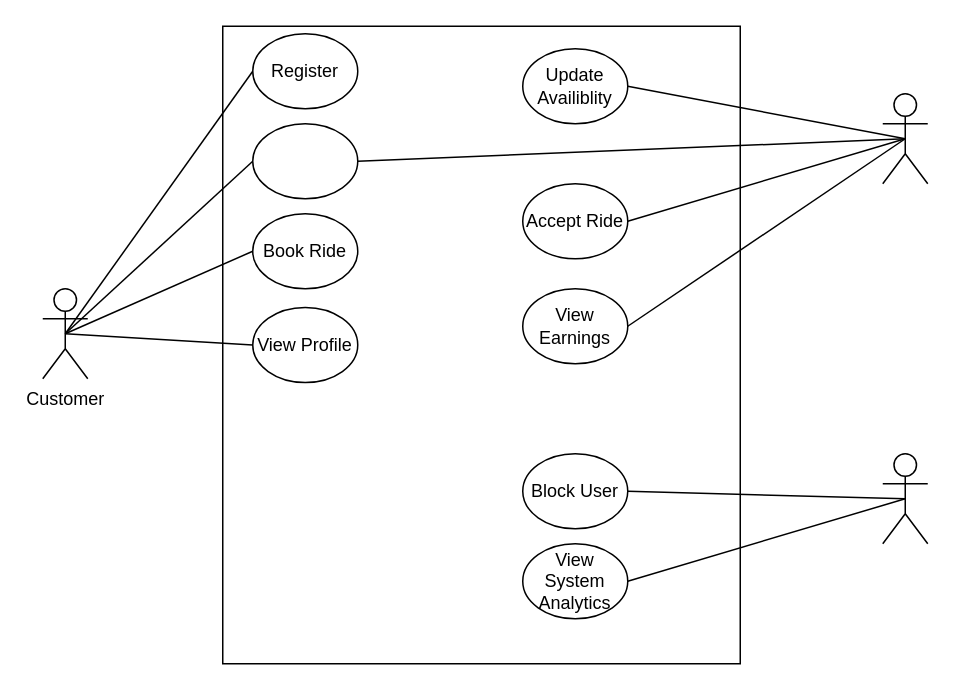
This 956x690 diagram has some shape labels left out. The centre of each missing label's shape, as x and y in pixels:
"Admin" goes at [904,498].
"Driver" goes at [904,138].
"Login" goes at [304,160].
